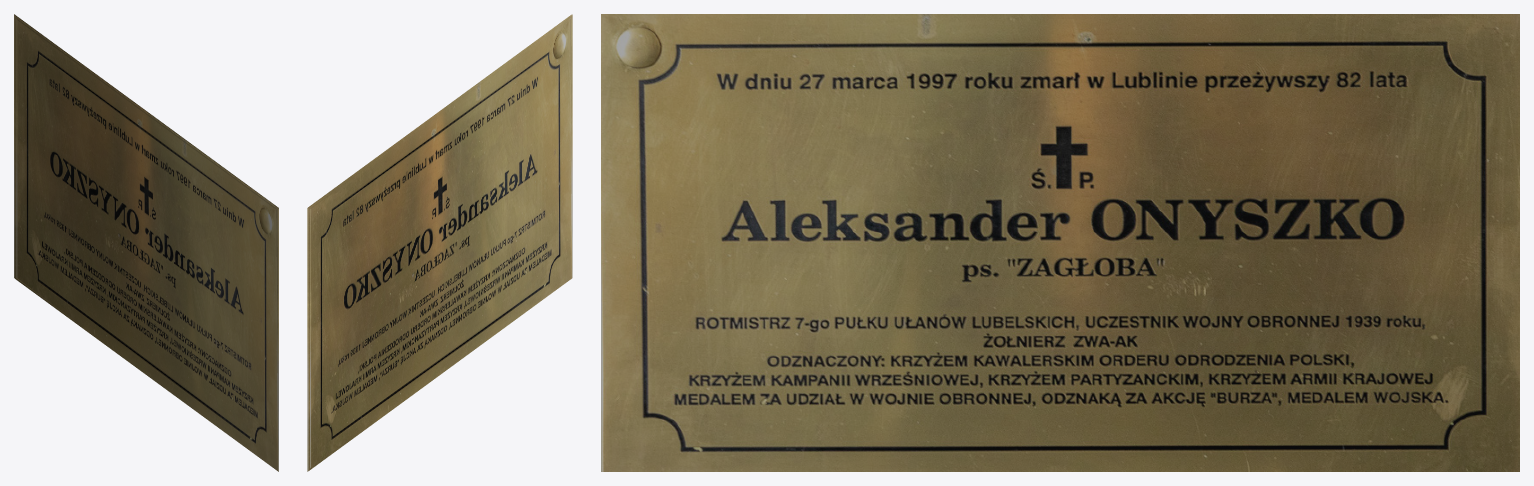
The model's file is 63. ALEKSANDER ONYSZKO.glb.
3 views of the same model, side by side, from view 1: azimuth 30°, elevation 25°; view 2: azimuth 150°, elevation 25°; view 3: azimuth 270°, elevation 25° (orthographic). The views are drawn at different scales.
Parts seen in each view (by area): view 1: Plane; view 2: Plane; view 3: Plane.
Part boxes in pixels (x1=…): Plane: x1=14, y1=14, x2=278, y2=471; Plane: x1=307, y1=14, x2=572, y2=471; Plane: x1=601, y1=14, x2=1519, y2=471.
Size of the model in its own units: 0.0102 by 11 by 20.
Materials: 1 (1 with a texture image).
